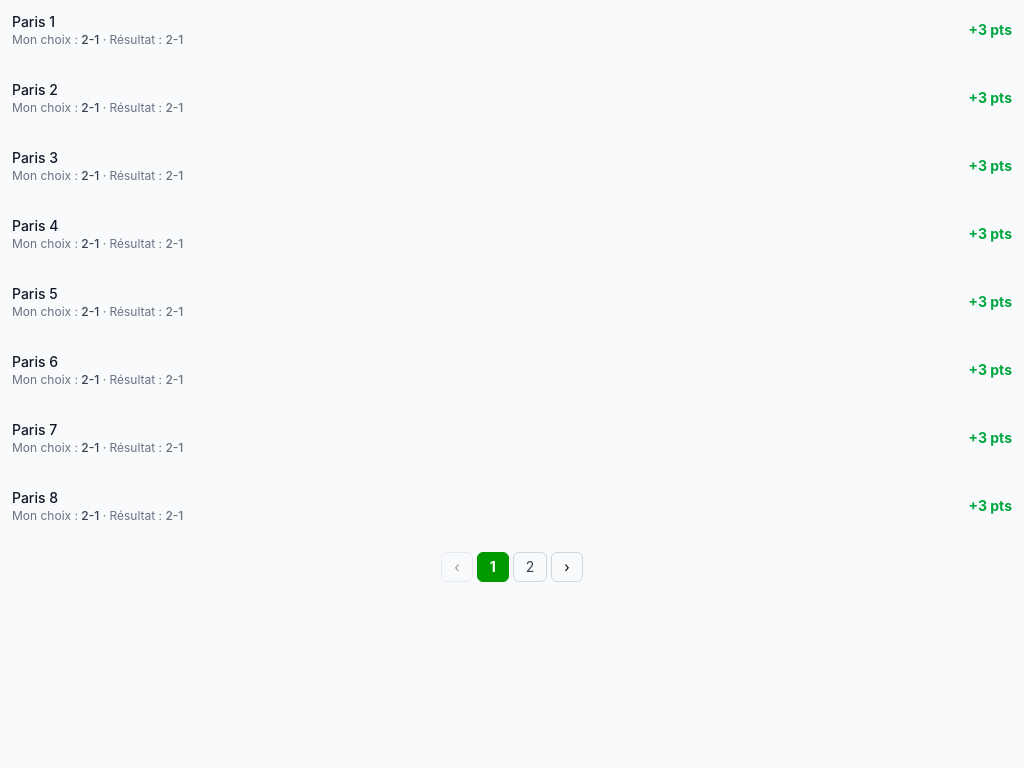
UserBetList — pagination › affiche la page suivante après clic sur next
Click the button "›". click: (567, 567)
box: [551, 552, 583, 582]
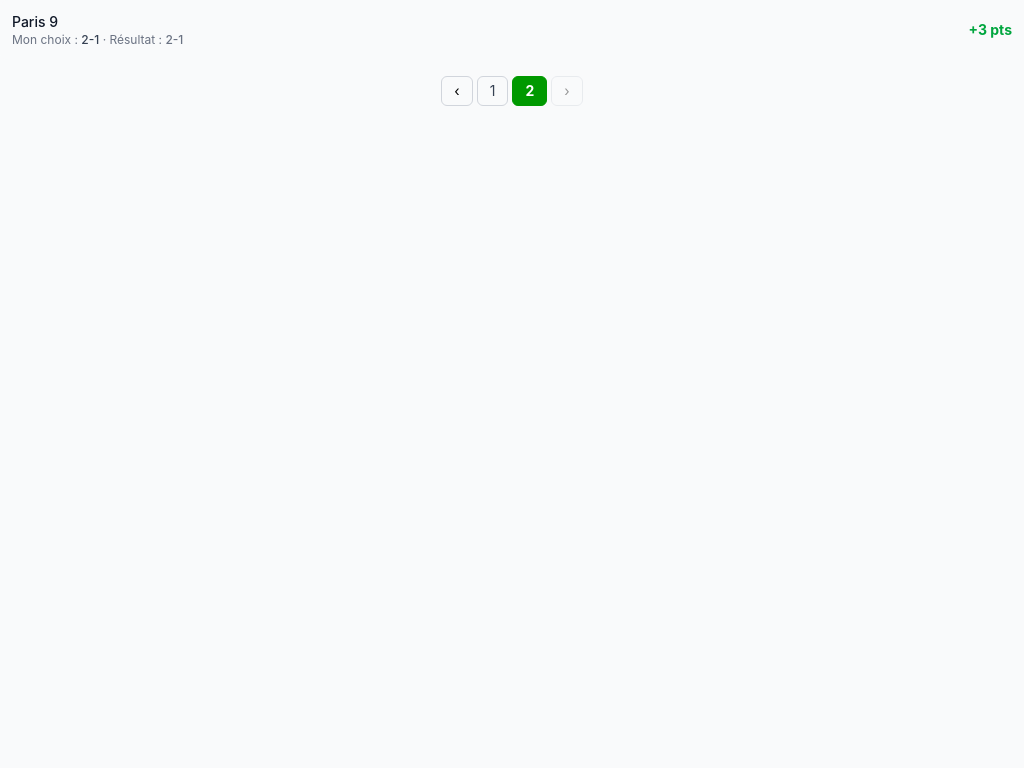
Expected: the text "Paris 9" is shown, [12, 13, 58, 30]
Expected: the text "Paris 1" is gone
